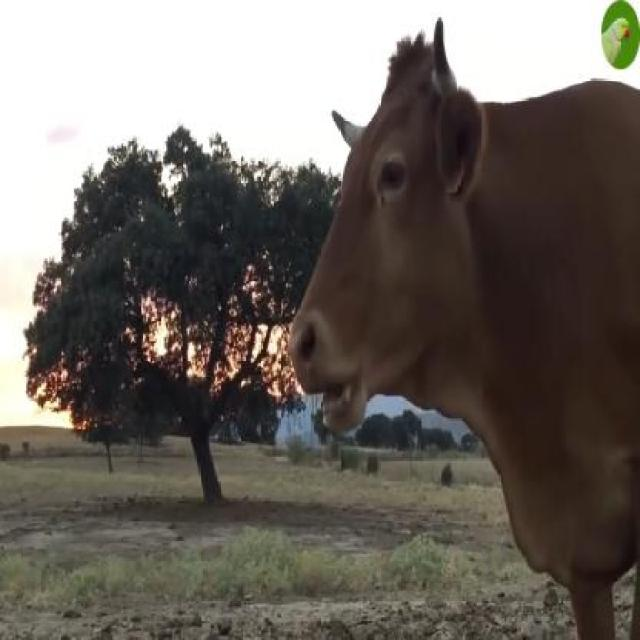Cow: (290, 17, 638, 638)
